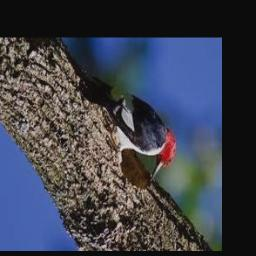Woodpecker: (79, 68, 176, 181)
